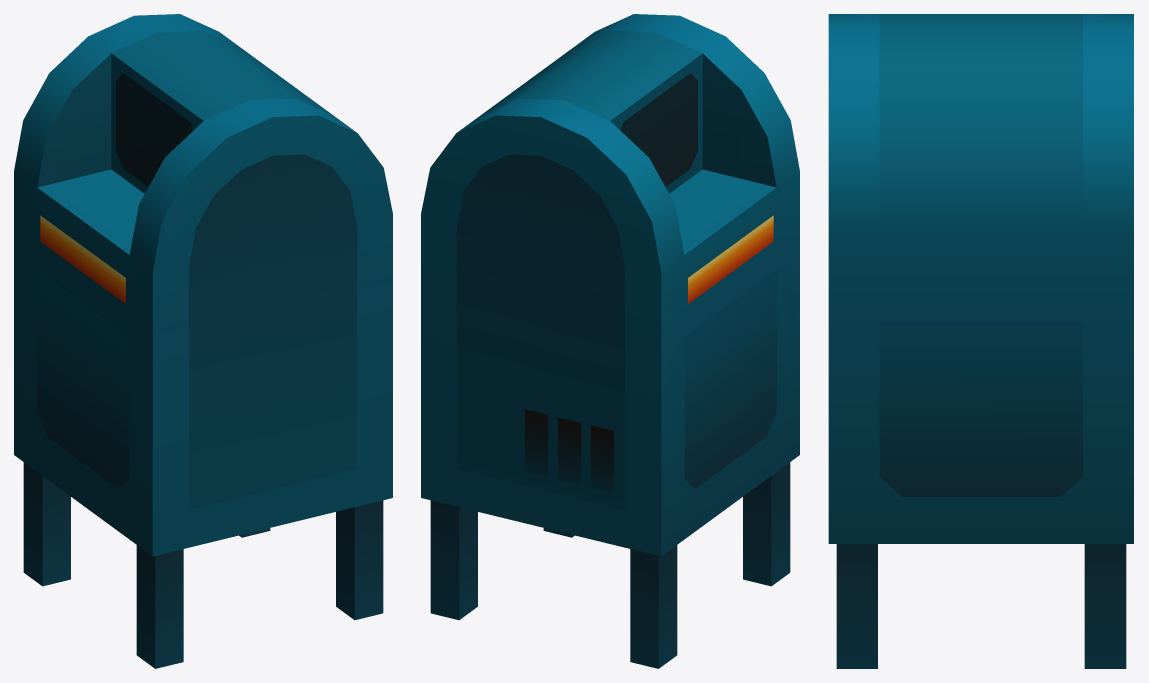
File: Mailbox_2A.fbx
3 views of the same model, side by side, from view 1: azimuth 30°, elevation 25°; view 2: azimuth 150°, elevation 25°; view 3: azimuth 270°, elevation 25° (orthographic). The views are drawn at different scales.
Visible parts, largest first — view 1: Mailbox_2A; view 2: Mailbox_2A; view 3: Mailbox_2A.
Part boxes in pixels (left/top/right/bottom): Mailbox_2A: left=14, top=14, right=392, bottom=668; Mailbox_2A: left=421, top=14, right=799, bottom=668; Mailbox_2A: left=828, top=14, right=1133, bottom=668.
Bounding box in the file's own units: 82.33 × 172 × 82.48.
